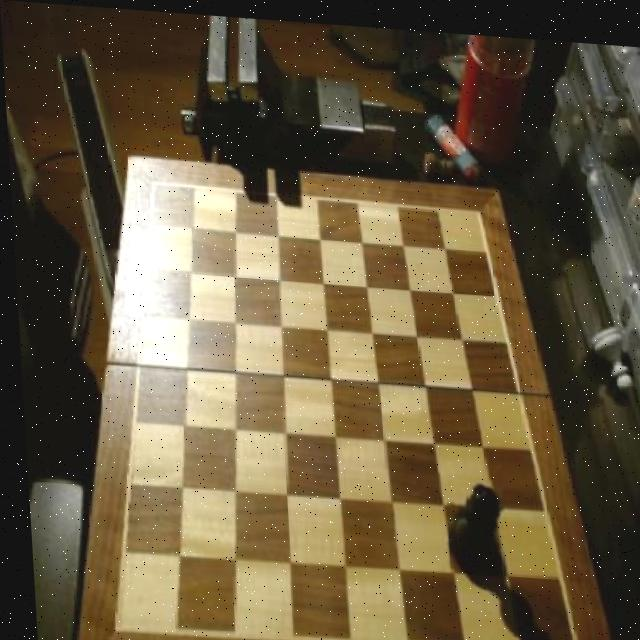black-pawn: (439, 467, 501, 571)
